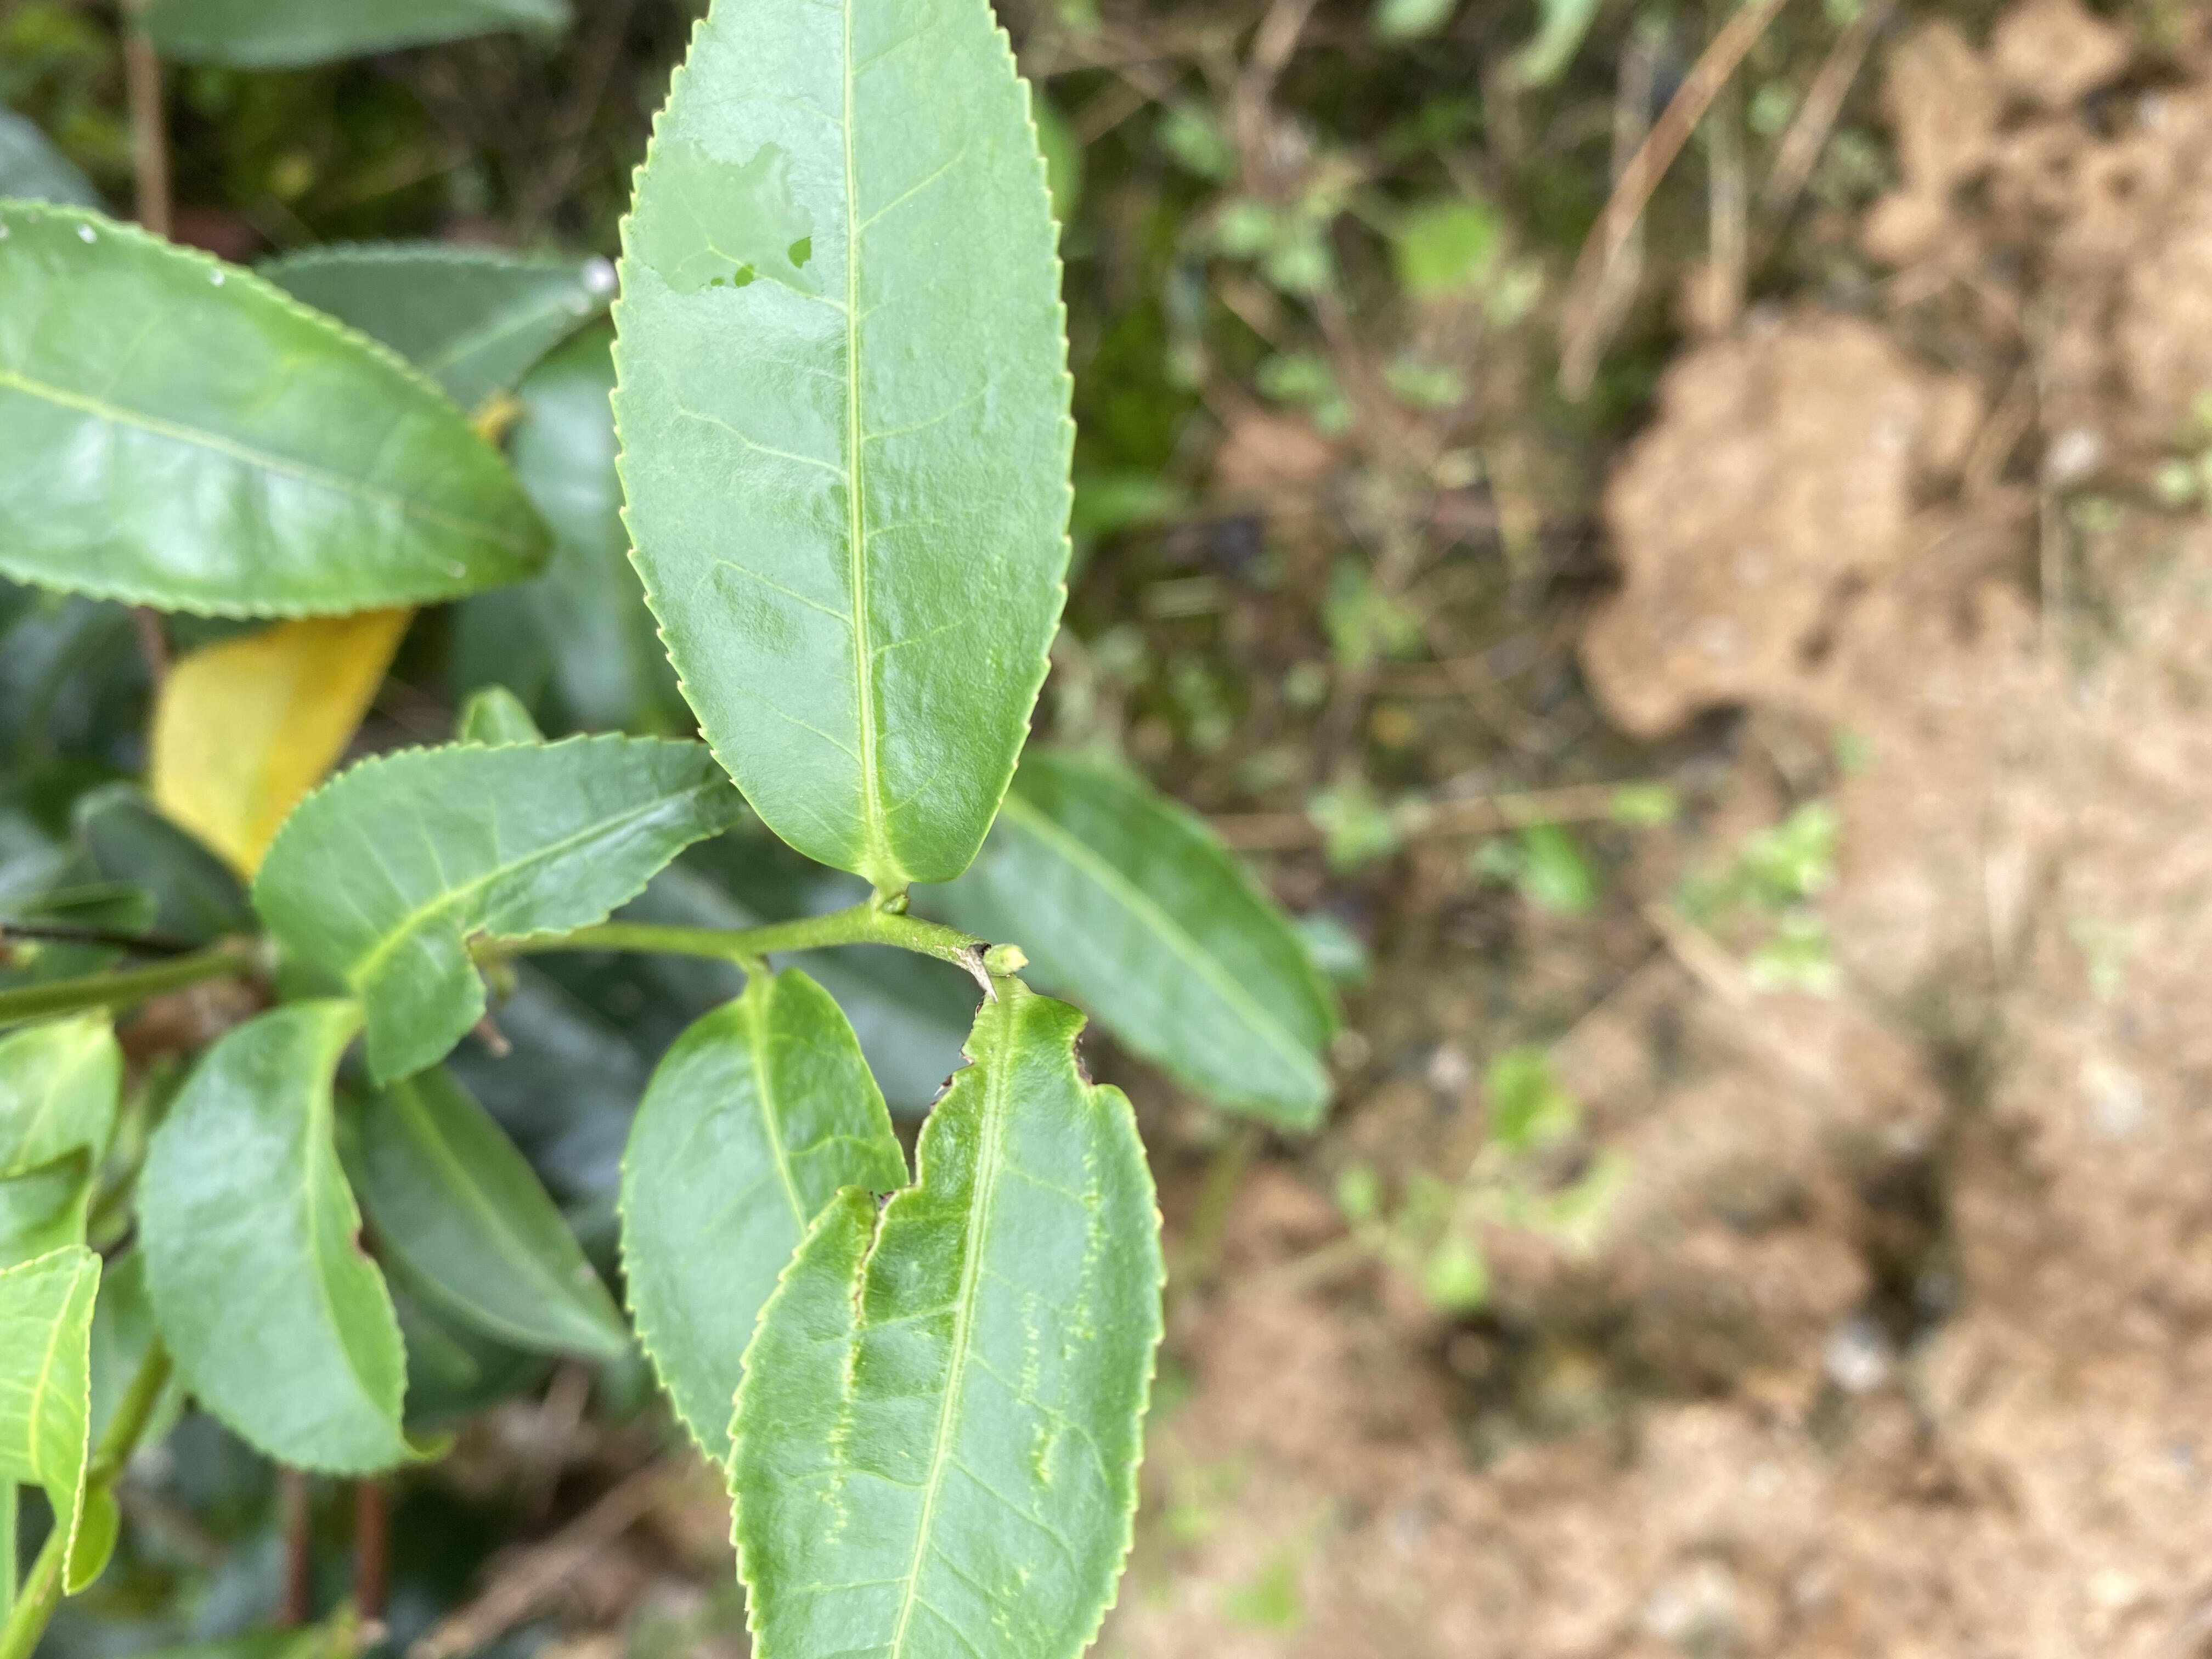chihuo_high: (725, 974, 1165, 1659)
chihuo_low: (251, 734, 749, 1096)
healthy: (608, 3, 1080, 896)
